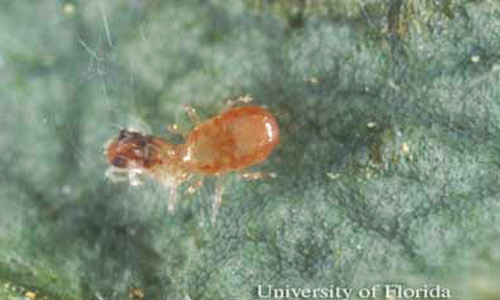Mites: (105, 91, 275, 210)
